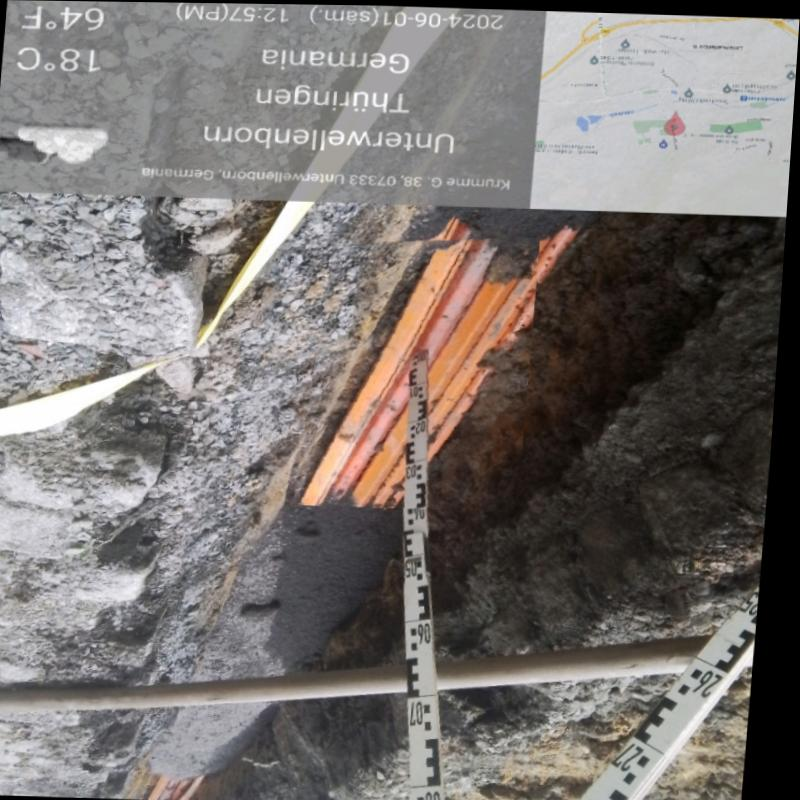Orang-Speednetrohrchen: (299, 236, 540, 506)
